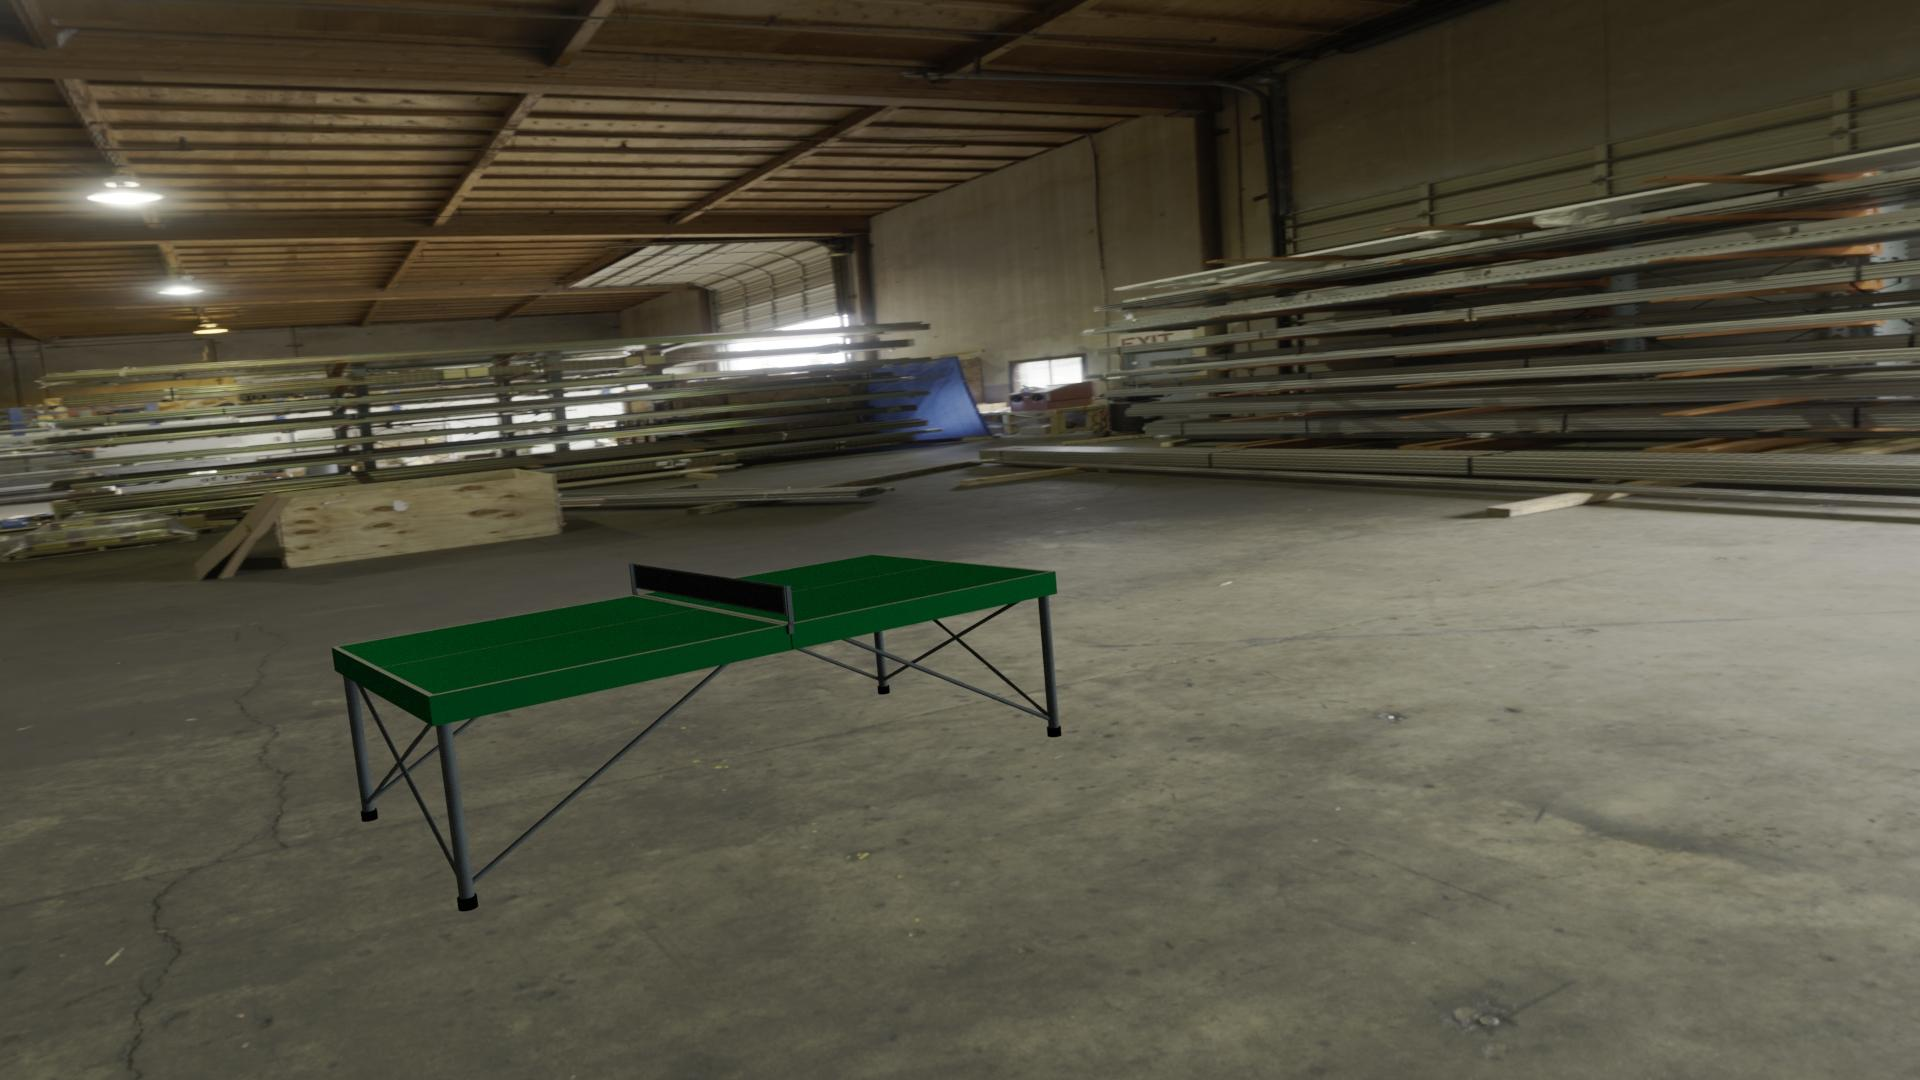table: (338, 555, 1050, 695)
